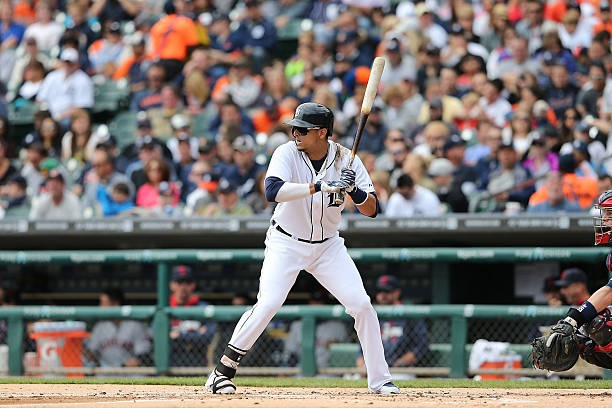bita: (335, 54, 385, 204)
